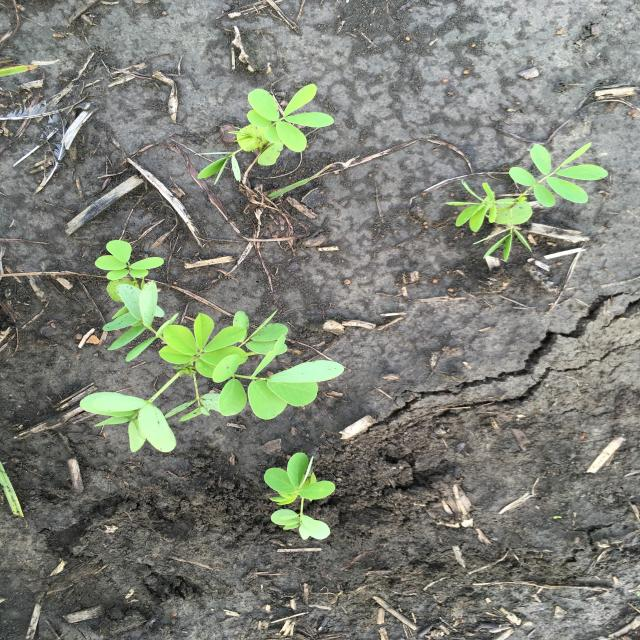Sicklepod: (77, 238, 347, 456), (440, 140, 610, 262), (196, 83, 337, 188), (262, 452, 337, 541)
